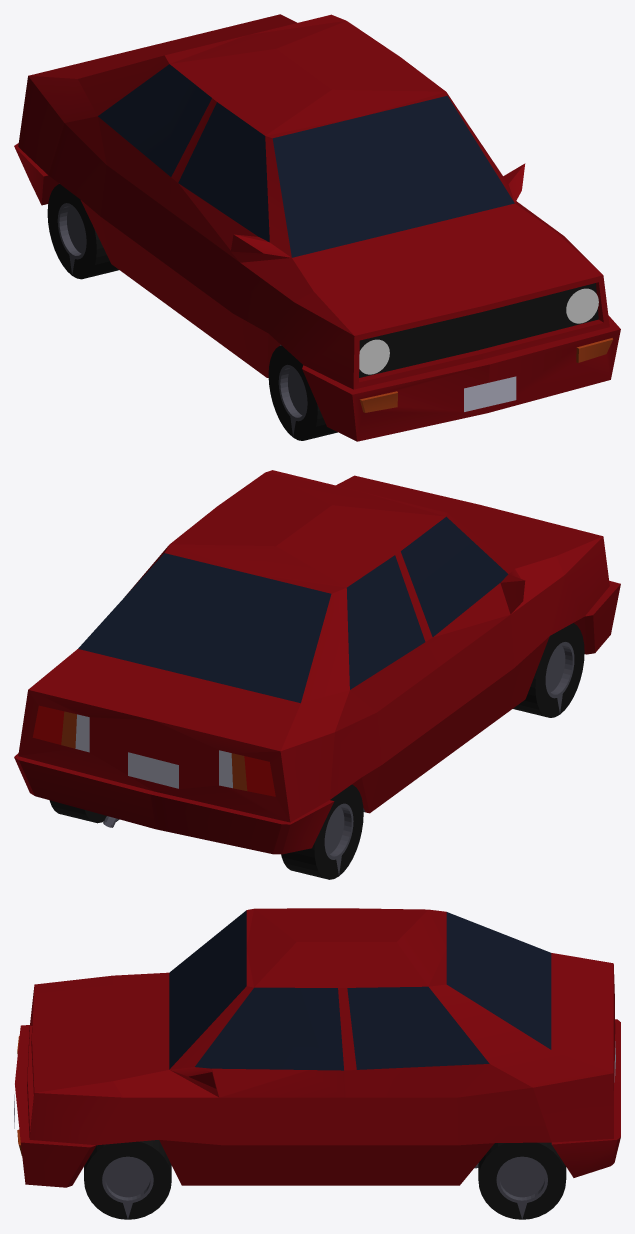
The model's file is car.fbx.
The picture shows the model from 3 angles, top to bottom: view 1: azimuth 30°, elevation 25°; view 2: azimuth 150°, elevation 25°; view 3: azimuth 270°, elevation 25°; orthographic projection. The views are drawn at different scales.
Visible parts, largest first — view 1: polySurface670, polySurface674, polySurface671, polySurface678, polySurface676, polySurface677; view 2: polySurface670, polySurface674, polySurface671, polySurface679, polySurface672; view 3: polySurface670, polySurface673, polySurface672.
Part boxes in pixels (box(x1,y1,x2,y2)): polySurface670: box(14, 14, 620, 441); polySurface674: box(47, 184, 118, 279); polySurface671: box(268, 345, 337, 440); polySurface678: box(464, 376, 516, 411); polySurface676: box(566, 288, 598, 323); polySurface677: box(359, 339, 389, 374); polySurface670: box(14, 470, 620, 854); polySurface674: box(281, 784, 363, 879); polySurface671: box(513, 623, 584, 717); polySurface679: box(128, 752, 178, 788); polySurface672: box(49, 800, 106, 823); polySurface670: box(15, 908, 620, 1187); polySurface673: box(84, 1140, 171, 1219); polySurface672: box(478, 1142, 566, 1219).
Bounding box in the file's own units: 391 × 314 × 787.
